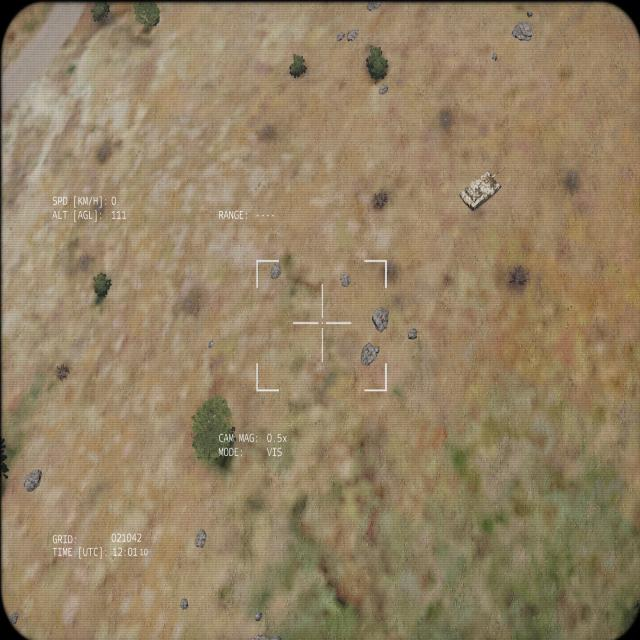tank: (457, 162, 508, 212)
